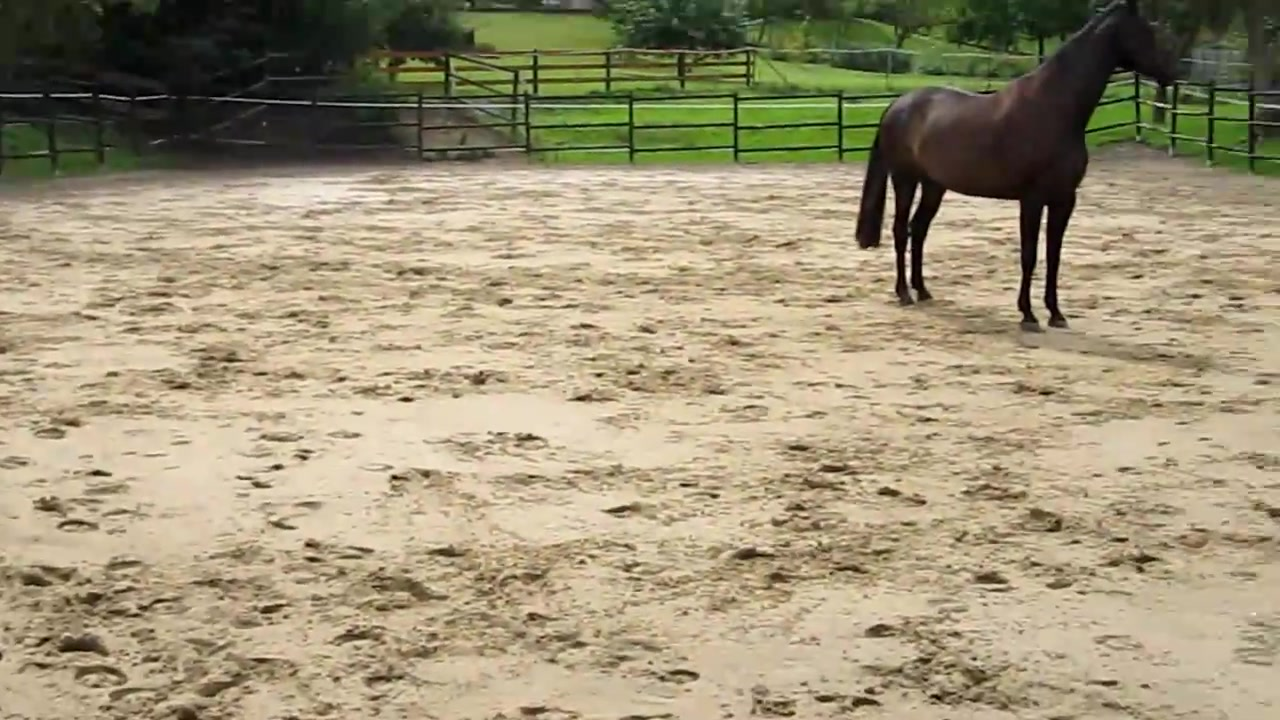horse: (853, 3, 1194, 336)
